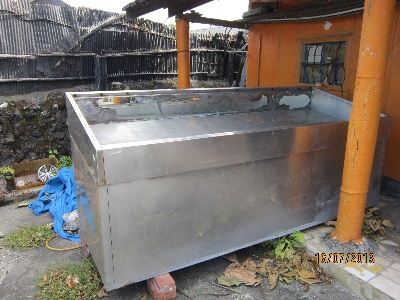box: (63, 88, 394, 292)
